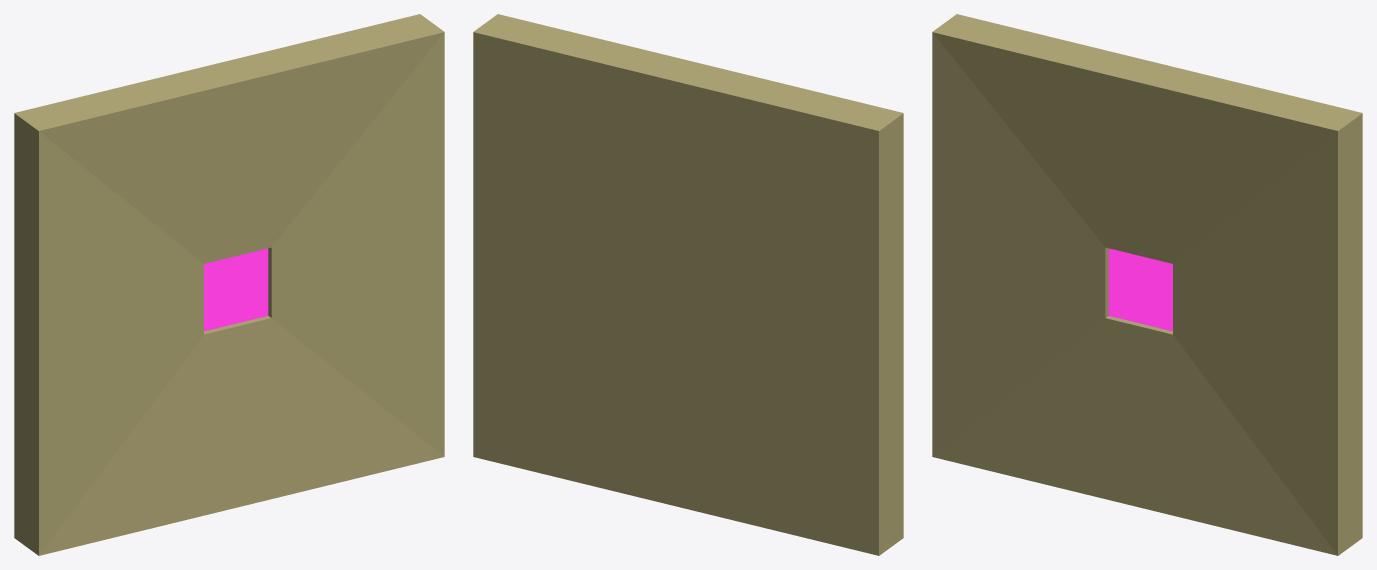
The model's file is tile.glb.
The picture shows the model from 3 angles, left to right: view 1: azimuth 30°, elevation 25°; view 2: azimuth 150°, elevation 25°; view 3: azimuth 330°, elevation 25°; orthographic projection.
Visible parts, largest first — view 1: Cube; view 2: Cube; view 3: Cube.
Part boxes in pixels (x1=…): Cube: x1=14, y1=14, x2=444, y2=555; Cube: x1=473, y1=14, x2=903, y2=555; Cube: x1=932, y1=14, x2=1362, y2=555.
Size of the model in its own units: 19 by 19 by 2.
